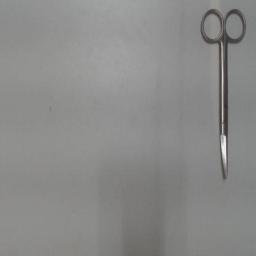Curved Mayo Scissors: (198, 6, 248, 182)
